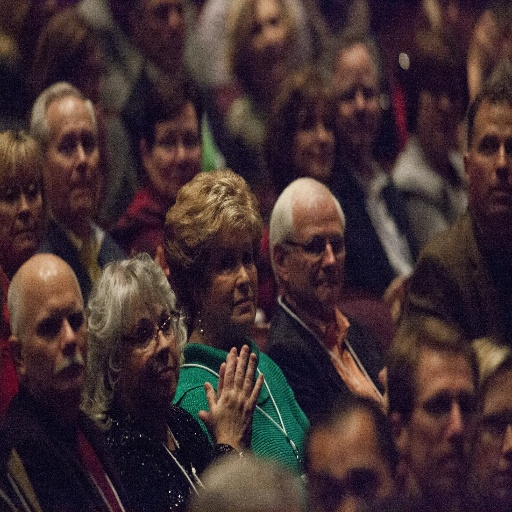hand: (197, 353, 241, 449), (377, 366, 389, 417)
